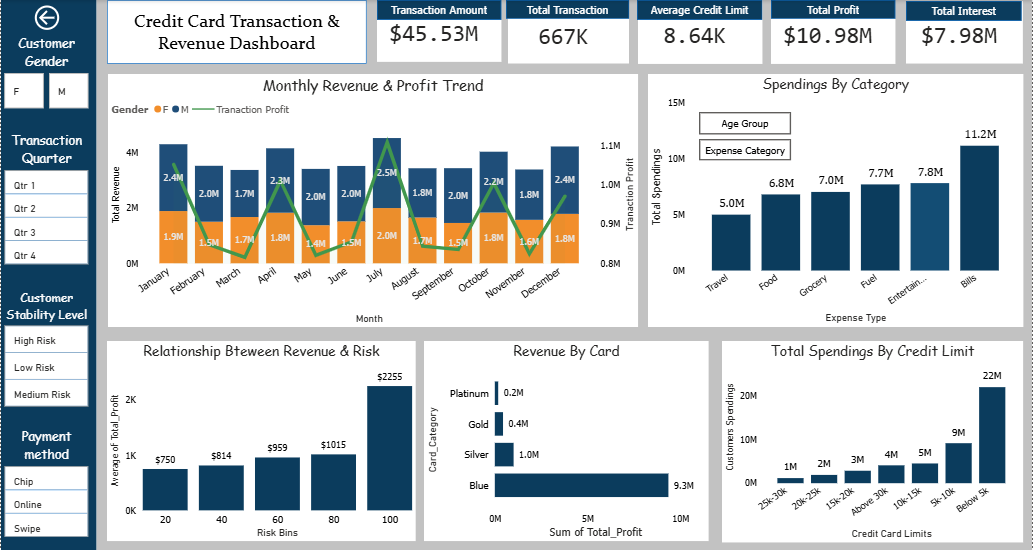

Layout of this report page (visuals, bound fields, positions):
{"tool":"powerbi","page":{"name":"Transaction Dashboard","canvas":[1500,800],"ordinal":1},"visuals":[{"type":"shape","box":[0,0,138.7,800],"z":0},{"type":"cardVisual","title":"Total Customers","fields":{"Data":["Sum(CreditCard.Total_Revenue)"]},"box":[136.8,0,213.1,93.6],"z":1000},{"type":"cardVisual","title":"Total Customers","fields":{"Data":["Sum(CreditCard.Total_Trans_Amt)"]},"box":[382.4,0,244.8,92.8],"z":2000},{"type":"cardVisual","title":"Total Customers","fields":{"Data":["Sum(CreditCard.Total_Trans_Vol)"]},"box":[665.6,1.6,241.6,92.8],"z":3000},{"type":"cardVisual","title":"Total Customers","fields":{"Data":["Avg(CreditCard.CAC_Ratio)"]},"box":[942.4,1.6,230.4,92.8],"z":4000},{"type":"cardVisual","title":"Total Customers","fields":{"Data":["50 States.AVG_Credit_limit"]},"box":[1200,1.6,230.4,92.8],"z":5000},{"type":"shape","box":[382.4,1.6,144,28.8],"z":6000},{"type":"shape","box":[665.6,1.6,142.4,30.4],"z":7000},{"type":"shape","box":[942.4,1.6,144,30.4],"z":8000},{"type":"shape","box":[1200,1.6,145.6,30.4],"z":9000},{"type":"lineStackedColumnComboChart","title":"Revenue By Card","fields":{"Category":["CreditCard.Card_Category"],"Y":["Sum(CreditCard.Total_Revenue)"]},"box":[629,430.6,416.1,369.4],"z":10000},{"type":"lineClusteredColumnComboChart","title":"Spending Behaviour","fields":{"Category":["CreditCard.Exp Type"],"Y":["Sum(CreditCard.Total_Trans_Amt)"]},"box":[1045.2,430.6,454.8,369.4],"z":11000},{"type":"advancedSlicerVisual","title":"Gender","fields":{"Values":["customer.Gender"]},"box":[0,111.3,138.7,98.4],"z":12000},{"type":"advancedSlicerVisual","title":"Gender","fields":{"Values":["Financial_Stability.Stability_Category"]},"box":[0,224.2,138.7,166.1],"z":13000},{"type":"slicer","title":"Quarter","fields":{"Values":["CreditCard.Week_Start_Date.Variation.Date Hierarchy.Quarter"]},"box":[6.5,741.9,125.8,58.1],"z":14000},{"type":"lineClusteredColumnComboChart","title":"Credit Limit vs Spendings","fields":{"Category":["CreditCard.Credit_Limit_Bins"],"Y":["Avg(CreditCard.Total_Trans_Amt)"]},"box":[140,448.9,488.6,351.2],"z":16000},{"type":"actionButton","title":"Button2","box":[196.9,492.1,128,51.2],"z":17000},{"type":"actionButton","title":"Button1","box":[350.4,492.1,128,47.2],"z":18000},{"type":"slicer","title":"Use Chip","fields":{"Values":["CreditCard.Use Chip"]},"box":[6.5,664.5,125.8,58.1],"z":19000},{"type":"slicer","title":"Use Chip","fields":{"Values":["50 States.State"]},"box":[6.5,587.1,125.8,58.1],"z":20000},{"type":"image","box":[3.2,390.3,135.5,177.4],"z":21000},{"type":"image","box":[261.3,0,88.7,93.5],"z":22000},{"type":"image","box":[526.4,0,102.4,92.8],"z":23000},{"type":"image","box":[808,0,99.2,92.8],"z":24000},{"type":"image","box":[1086.4,0,86.4,92.8],"z":25000},{"type":"image","box":[1345.6,1.6,84.8,92.8],"z":26000},{"type":"lineChart","title":"Revenue Trend","fields":{"Category":["CreditCard.Week_Start_Date.Variation.Date Hierarchy.Month","CreditCard.Week_Start_Date.Variation.Date Hierarchy.Day"],"Y2":["Sum(CreditCard.Total_Revenue)"],"Y":["Sum(CreditCard.Total_Trans_Amt)"]},"box":[139.8,112.2,1360.2,318.9],"z":27000},{"type":"shape","box":[139.2,0,144,28.8],"z":28000},{"type":"textbox","box":[992,129.6,131.2,80],"z":29000}]}

Visuals, with their boxes in screenshot pixels (x1, y1, x2, y2), scaled from the page's 1500x800 canvas onto the 1033x550 screenshot:
shape: left=0, top=0, right=96, bottom=549
"Total Customers" cardVisual: left=94, top=0, right=241, bottom=64
"Total Customers" cardVisual: left=263, top=0, right=432, bottom=64
"Total Customers" cardVisual: left=458, top=1, right=625, bottom=65
"Total Customers" cardVisual: left=649, top=1, right=808, bottom=65
"Total Customers" cardVisual: left=826, top=1, right=985, bottom=65
shape: left=263, top=1, right=363, bottom=21
shape: left=458, top=1, right=556, bottom=22
shape: left=649, top=1, right=748, bottom=22
shape: left=826, top=1, right=927, bottom=22
"Revenue By Card" lineStackedColumnComboChart: left=433, top=296, right=720, bottom=549
"Spending Behaviour" lineClusteredColumnComboChart: left=720, top=296, right=1032, bottom=549
"Gender" advancedSlicerVisual: left=0, top=77, right=96, bottom=144
"Gender" advancedSlicerVisual: left=0, top=154, right=96, bottom=268
"Quarter" slicer: left=4, top=510, right=91, bottom=549
"Credit Limit vs Spendings" lineClusteredColumnComboChart: left=96, top=309, right=433, bottom=549
"Button2" actionButton: left=136, top=338, right=224, bottom=374
"Button1" actionButton: left=241, top=338, right=329, bottom=371
"Use Chip" slicer: left=4, top=457, right=91, bottom=497
"Use Chip" slicer: left=4, top=404, right=91, bottom=444
image: left=2, top=268, right=96, bottom=390
image: left=180, top=0, right=241, bottom=64
image: left=363, top=0, right=433, bottom=64
image: left=556, top=0, right=625, bottom=64
image: left=748, top=0, right=808, bottom=64
image: left=927, top=1, right=985, bottom=65
"Revenue Trend" lineChart: left=96, top=77, right=1032, bottom=296
shape: left=96, top=0, right=195, bottom=20
textbox: left=683, top=89, right=774, bottom=144
